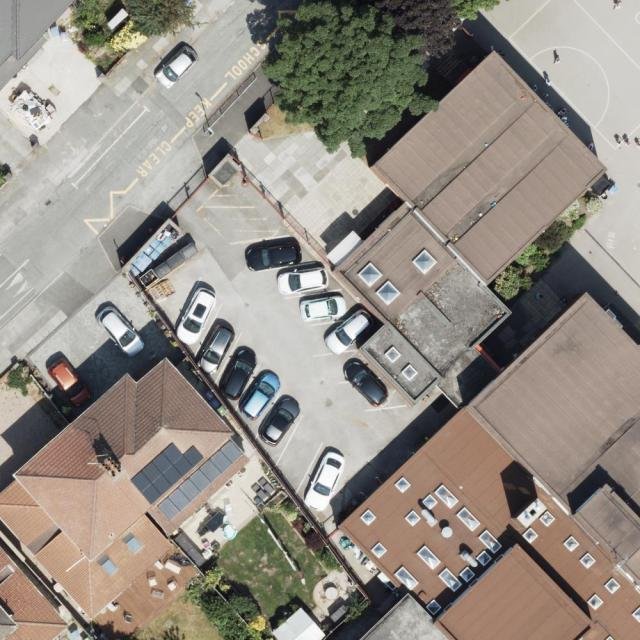roof: (327, 52, 640, 640), (0, 358, 253, 624), (0, 0, 78, 90), (0, 545, 71, 640)
skylight: (432, 481, 458, 511), (410, 248, 438, 275), (375, 278, 401, 307), (394, 565, 420, 592), (416, 544, 442, 571), (358, 262, 383, 288), (437, 567, 462, 593), (477, 529, 502, 555), (456, 508, 481, 533), (123, 534, 143, 555), (401, 361, 420, 381), (99, 558, 119, 577), (586, 593, 606, 611), (603, 575, 621, 595), (394, 476, 413, 494), (563, 535, 582, 553), (578, 551, 596, 570), (458, 565, 476, 583), (422, 493, 439, 511), (538, 509, 556, 526), (405, 509, 421, 528), (371, 541, 388, 558), (523, 526, 539, 544), (384, 346, 401, 362), (426, 598, 441, 615), (361, 510, 376, 526), (632, 605, 640, 623), (605, 634, 614, 640)
solar: (156, 439, 243, 522), (130, 442, 204, 505)
